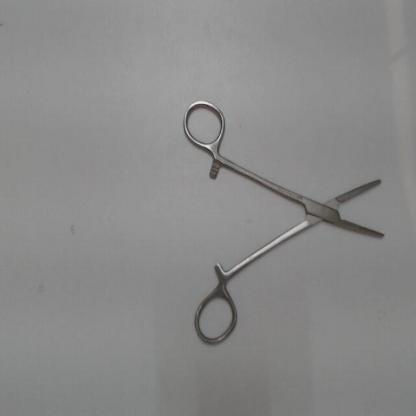Mayo Needle Holder: (178, 93, 390, 351)
